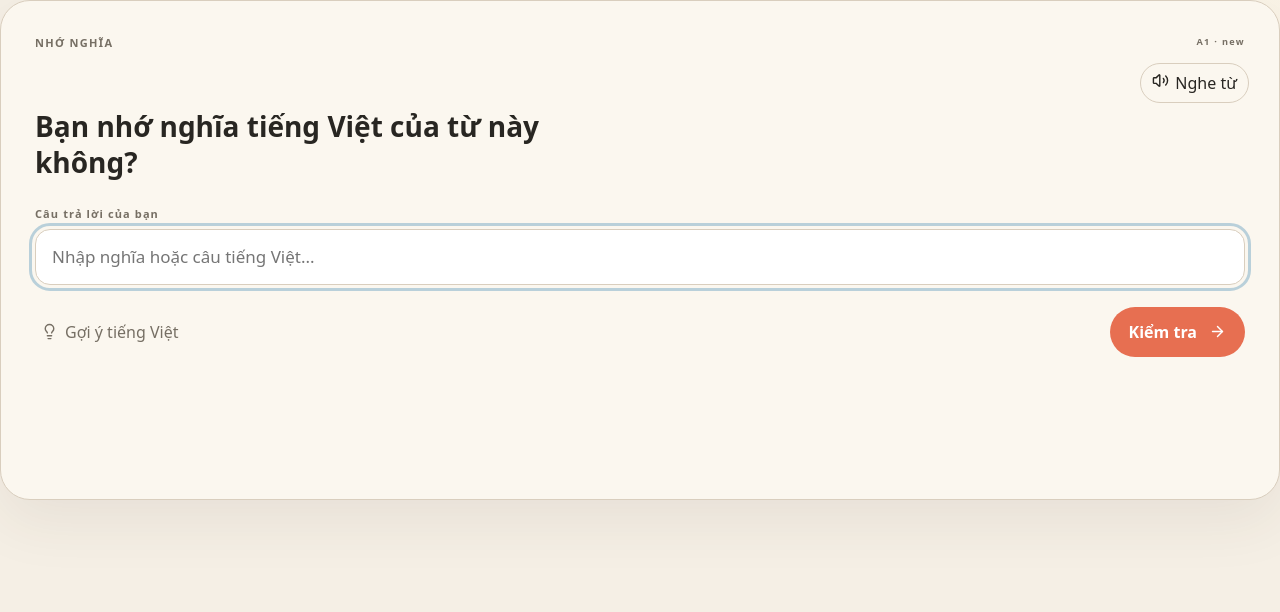
Test: learning cards › shows answer quality feedback after reveal
This screenshot has width=1280, height=612.
In the field with placeholder "Nhập nghĩa hoặc câu tiếng Việt...": (640, 257) [35, 229, 1245, 285], type "qua tao"
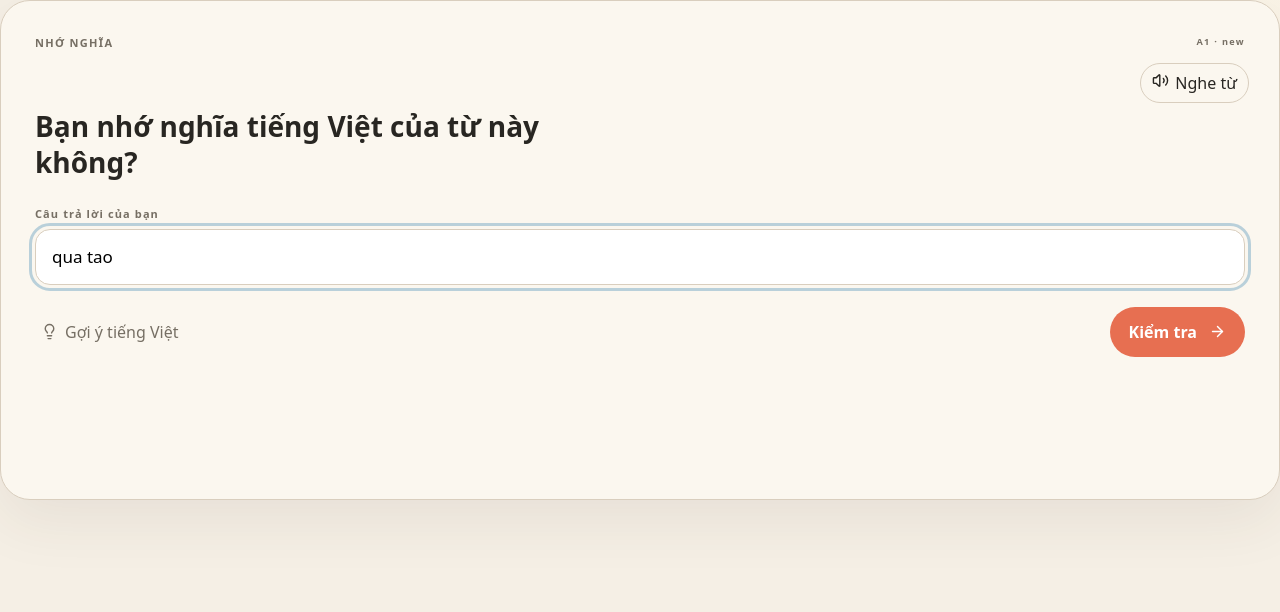
Click the button "Kiểm tra": (1177, 332) [1110, 307, 1245, 357]
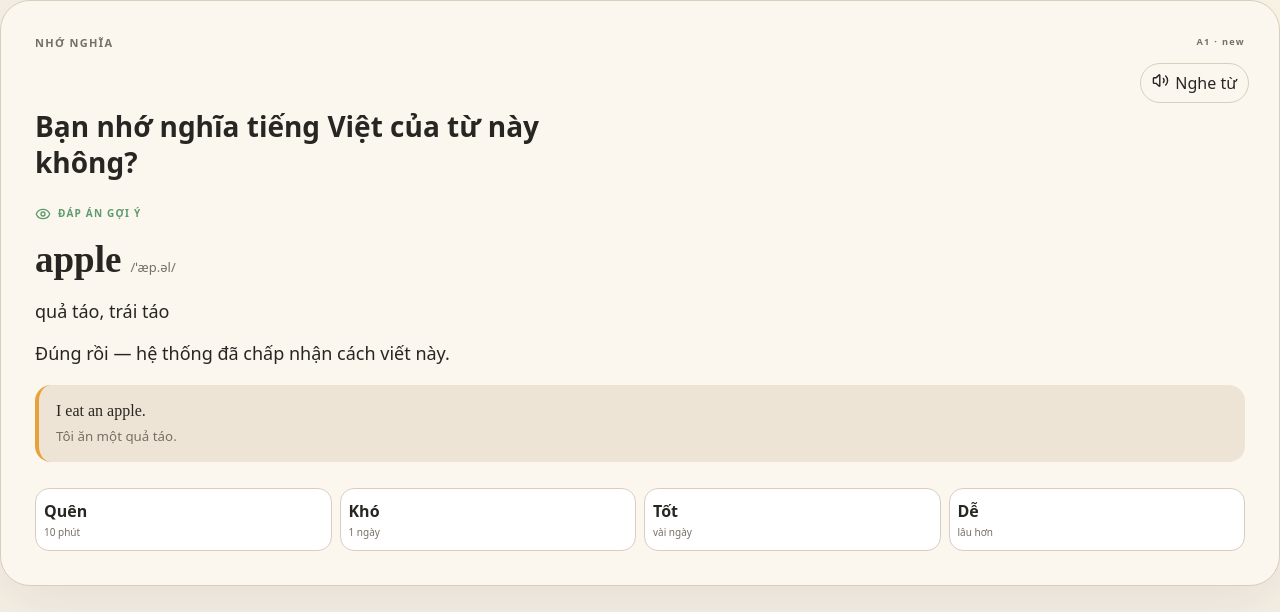
Check: the text "Đúng rồi — hệ thống đã chấp nhận cách viết này." is shown, box [35, 341, 450, 365]
